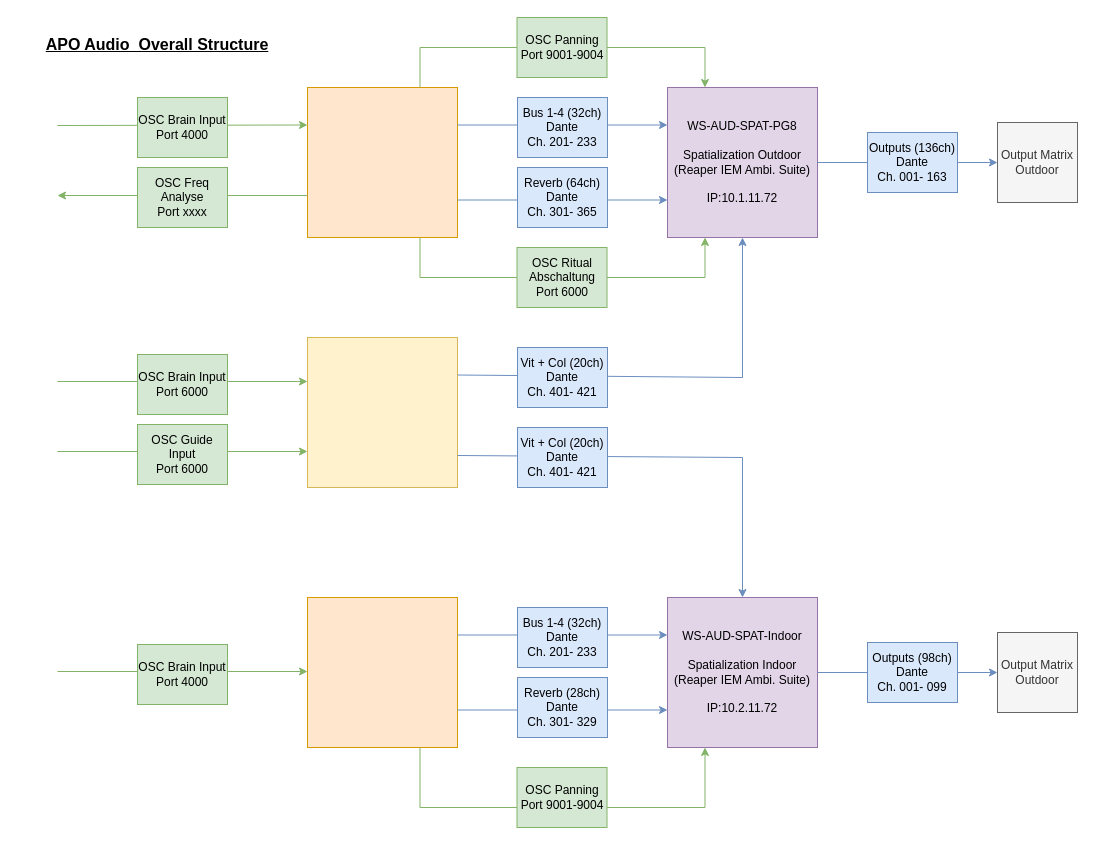
Some shapes in this 1095 by 845 pixel diagram are drawn without their labels. Here are the shapes that lost their labels. From the top down, the box of each, then its label:
(306, 86, 458, 238): WS-AUD-CON-PG8 Content Outdoor (MAX MSP) IP:10.1.11.71
(306, 336, 458, 488): WS-AUD-VIT-PG8 Display Player (MAX MSP) IP:10.1.11.73
(306, 596, 458, 748): WS-AUD-CON-DMN Content Indoor (MAX MSP) IP:10.2.11.71
